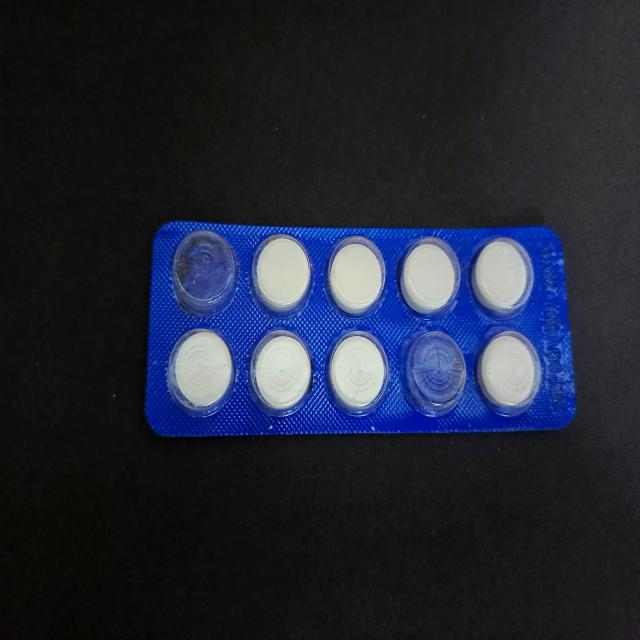defect: (398, 324, 468, 419), (170, 219, 238, 310)
